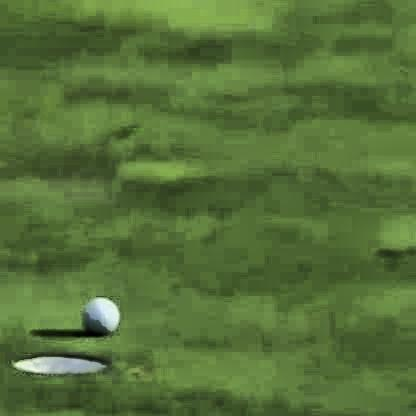golfball: (81, 293, 117, 332)
